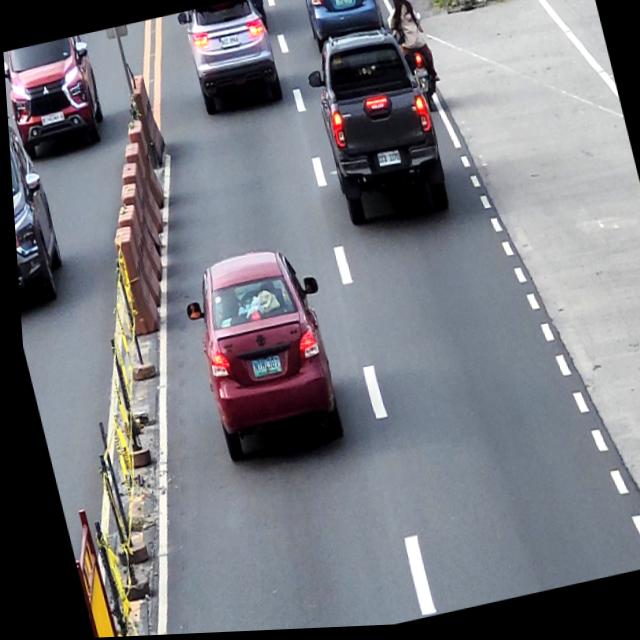Car: (170, 240, 349, 467), (297, 21, 453, 235), (2, 33, 109, 160), (174, 0, 286, 120), (5, 95, 67, 308), (300, 0, 386, 56)
License-Plate: (244, 355, 278, 381), (373, 151, 399, 172), (37, 110, 65, 126), (219, 34, 240, 51), (332, 0, 353, 11), (415, 69, 428, 82)
Motorcycle: (386, 13, 443, 119)
